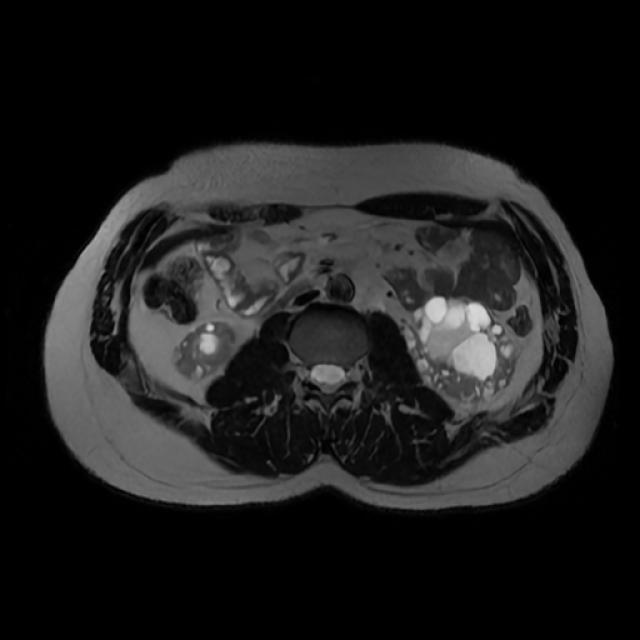sag: (169, 319, 239, 384)
sol: (398, 293, 519, 406)
